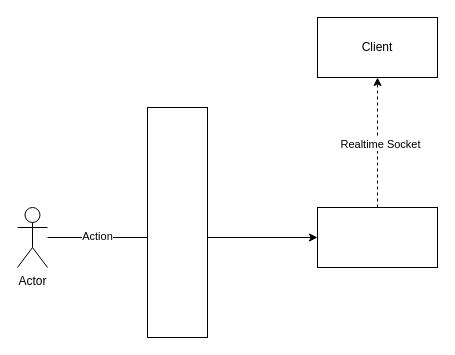
The diagram is 455 pixels wide and 355 high, and some of its shapes have lost their labels. The shapes that lost their labels are listed below. From the top down, each one's box as (x1, y1, x2, y2) in pixels, then its label:
(146, 106, 208, 338): Validation
(316, 206, 438, 268): Server
